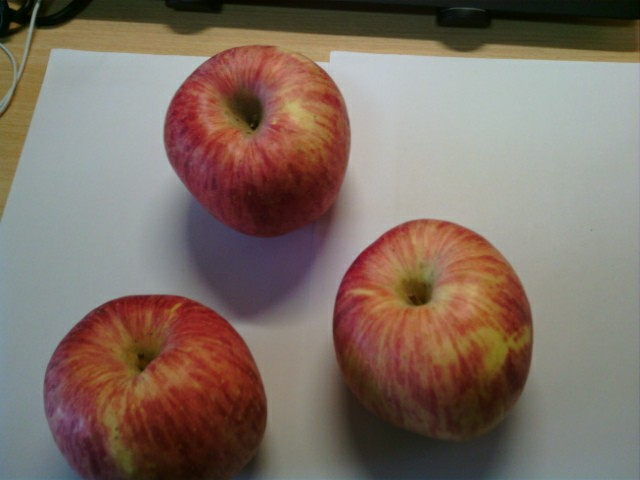normal_apple: (334, 215, 536, 444), (42, 292, 268, 480), (163, 45, 350, 236)
